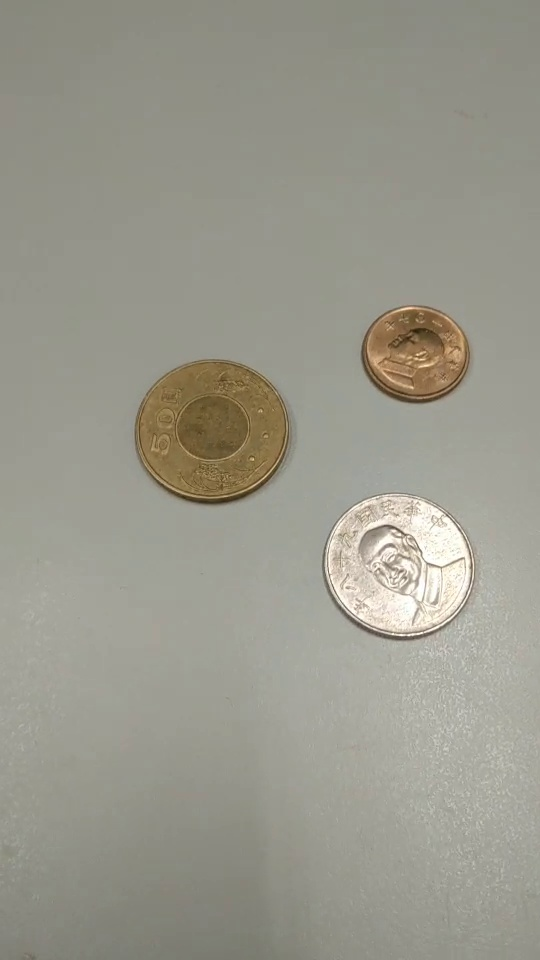NT$ 1: (360, 304, 472, 404)
NT$ 10: (323, 492, 475, 642)
NT$ 50: (134, 361, 292, 504)
